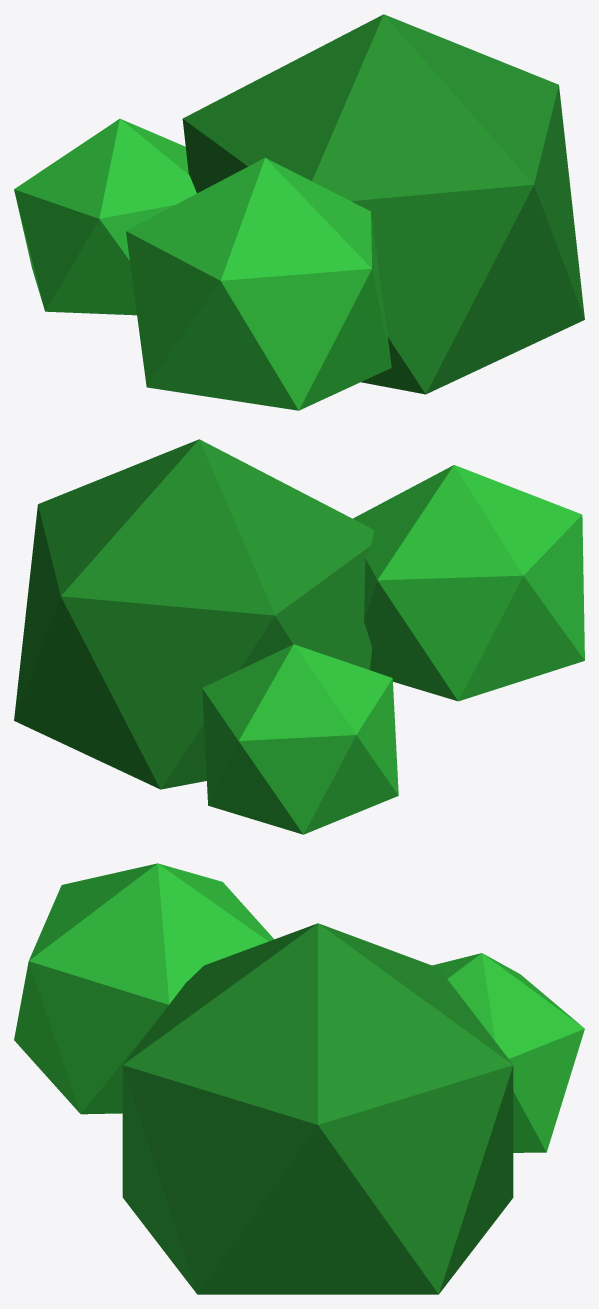
3 views of the same model, one above another, from view 1: azimuth 30°, elevation 25°; view 2: azimuth 150°, elevation 25°; view 3: azimuth 270°, elevation 25° (orthographic). The views are drawn at different scales.
Parts seen in each view (by area): view 1: Icosphere, Icosphere.003, Icosphere.001; view 2: Icosphere, Icosphere.003, Icosphere.001; view 3: Icosphere, Icosphere.003, Icosphere.001.
Part boxes in pixels (x1=…): Icosphere: x1=182, y1=14, x2=584, y2=394; Icosphere.003: x1=126, y1=157, x2=391, y2=410; Icosphere.001: x1=14, y1=118, x2=196, y2=315; Icosphere: x1=14, y1=439, x2=374, y2=789; Icosphere.003: x1=353, y1=465, x2=584, y2=701; Icosphere.001: x1=202, y1=644, x2=398, y2=834; Icosphere: x1=122, y1=923, x2=513, y2=1294; Icosphere.003: x1=14, y1=863, x2=274, y2=1114; Icosphere.001: x1=432, y1=953, x2=584, y2=1152.
Size of the model in its own units: 1.07 by 0.604 by 1.03.
